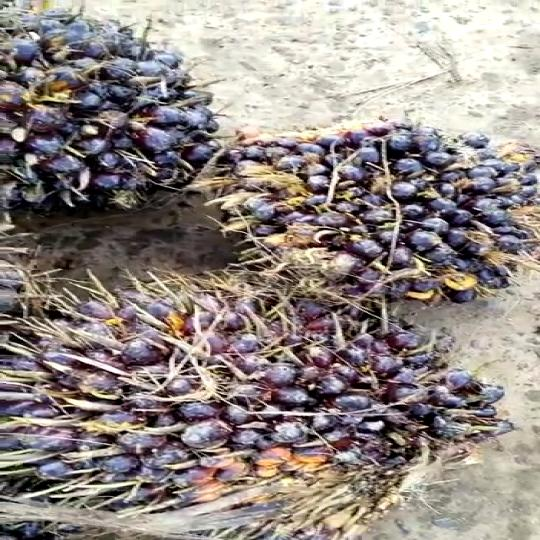mentah: (10, 262, 540, 540), (191, 119, 529, 311), (0, 0, 269, 236)
